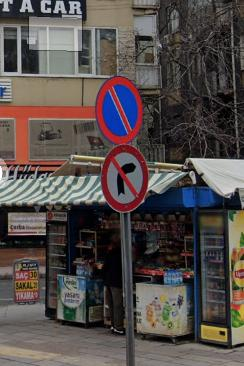nopark: (99, 78, 141, 138)
rightturnsareforbidden: (105, 149, 149, 207)
